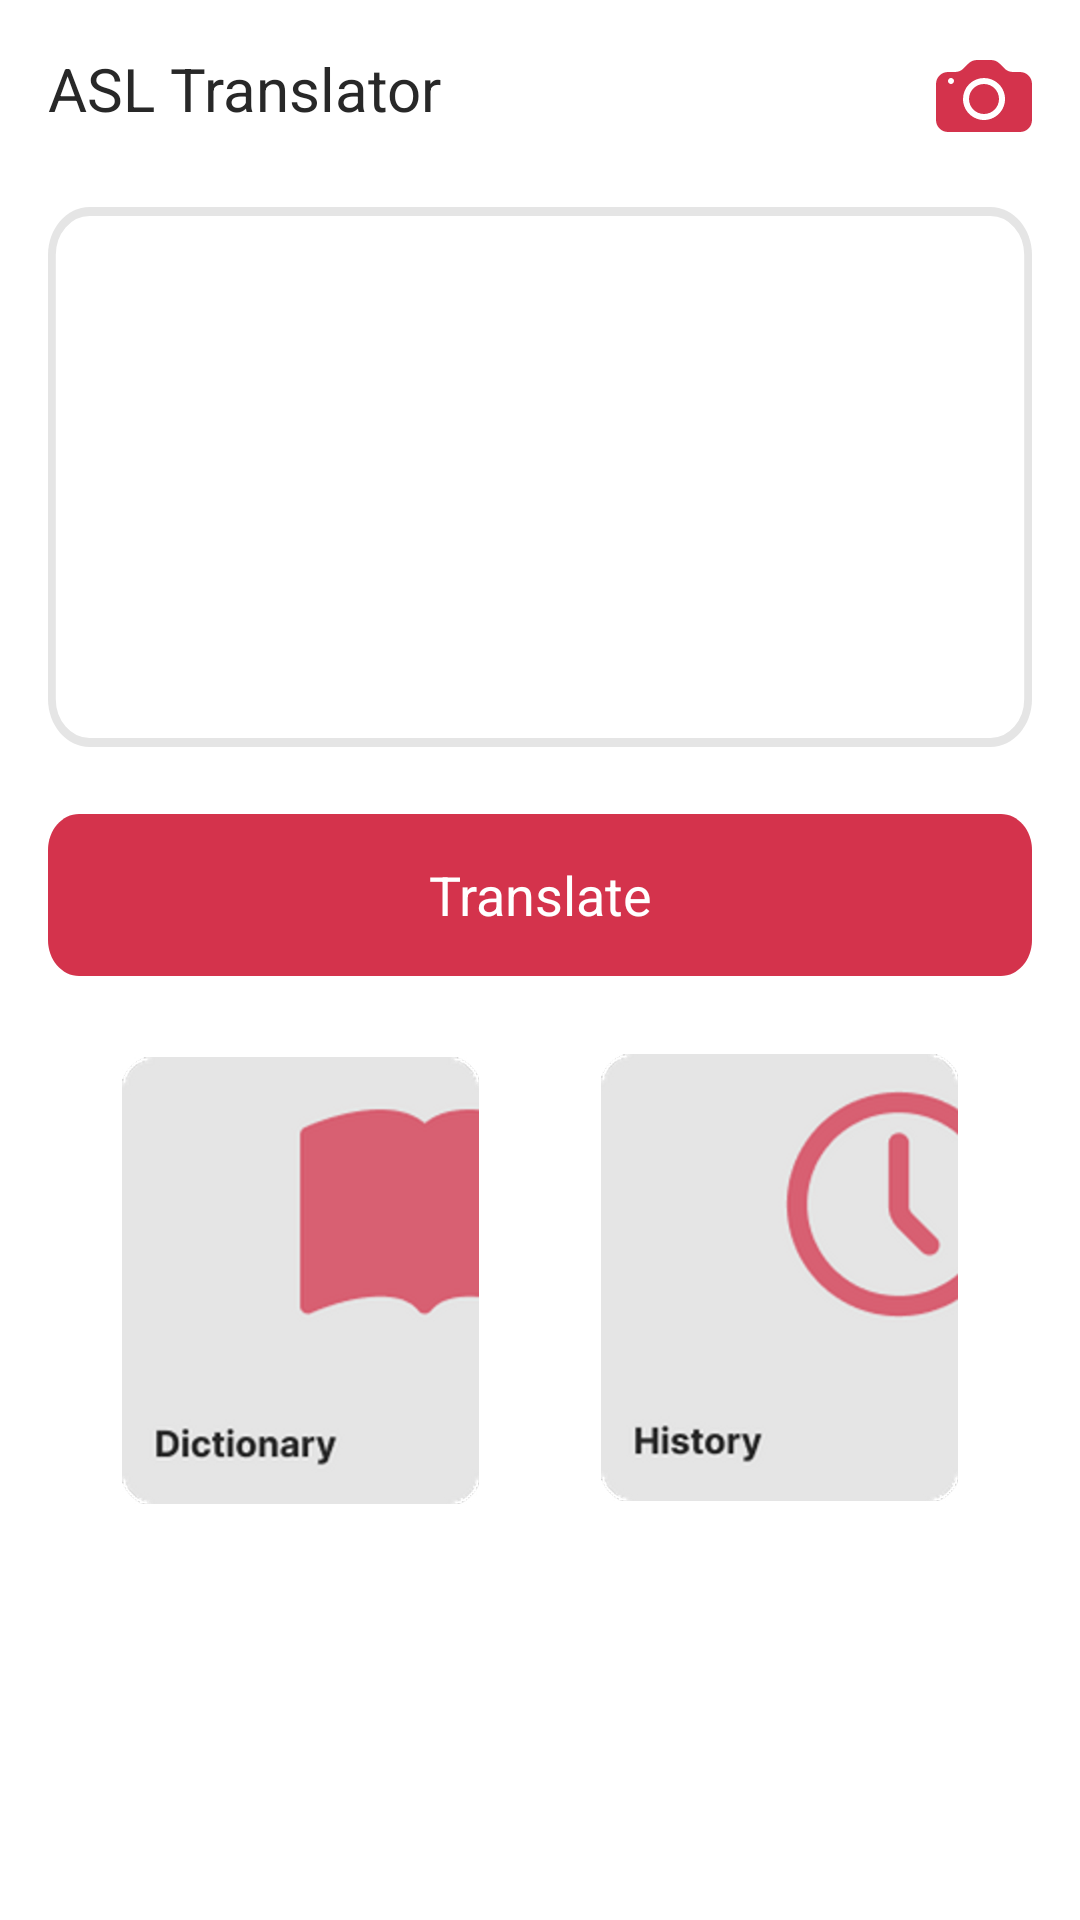

Where icons sit on this 1080x1920 app screen, as BBox(x1, y1, x2, y2):
bi camera: BBox(936, 60, 1032, 132)
